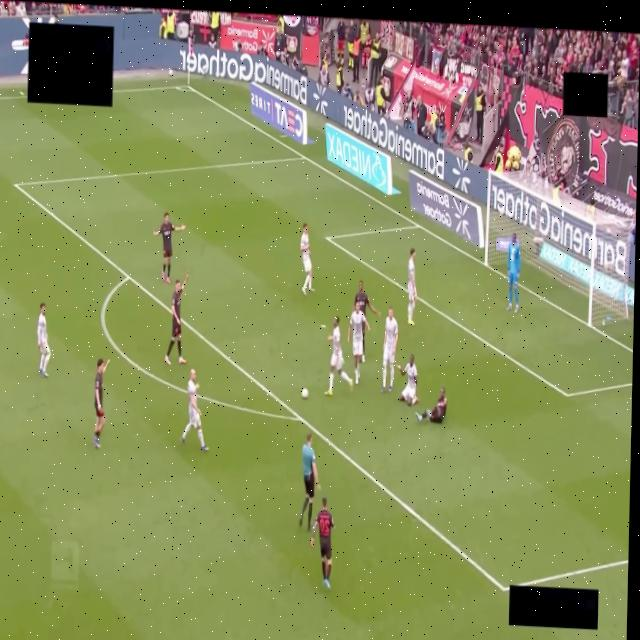ball: (301, 388, 308, 399)
player: (153, 212, 184, 283), (180, 370, 207, 451), (325, 316, 352, 396), (310, 497, 333, 589), (164, 273, 187, 364), (348, 304, 369, 385), (93, 359, 109, 449), (381, 308, 397, 392), (396, 355, 418, 406), (415, 387, 446, 422), (507, 234, 520, 313), (36, 303, 49, 378), (354, 281, 379, 316), (300, 224, 312, 295), (407, 248, 416, 325), (627, 210, 635, 252)
referee: (299, 433, 320, 530)
